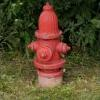a fire hydrant: (32, 6, 69, 87)
